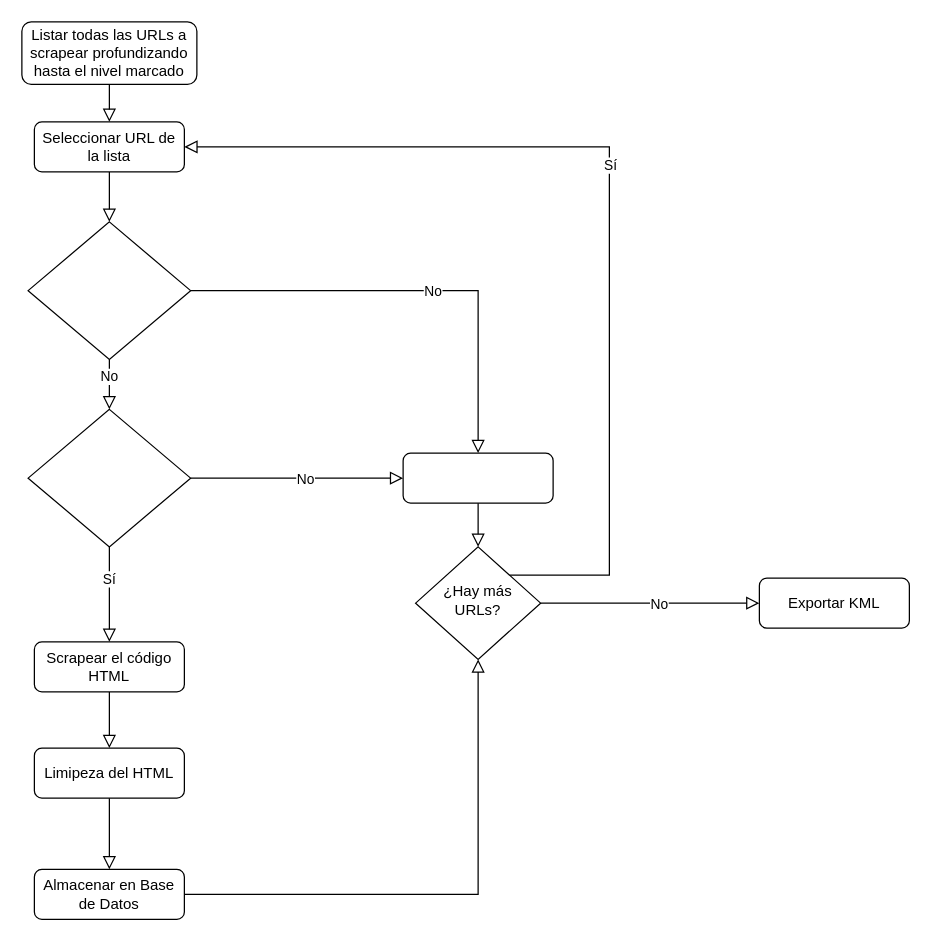
Image size: 931x941. Some labels were removed from this diagram. Each missing label, with the centre of its shape:
"Pasar siguiente URL" goes at pixel 477 477.
"¿El robots.txt permite acceso?" goes at pixel 109 477.
"¿Está el HTML en base de datos?" goes at pixel 109 290.
